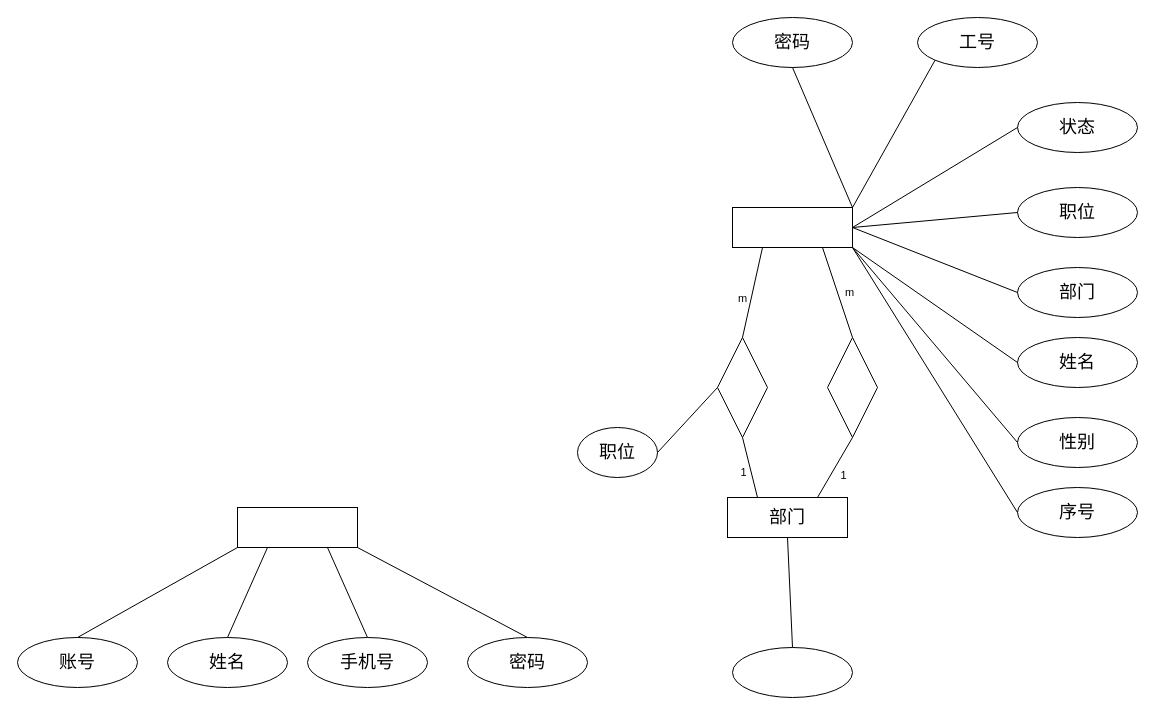
Image size: 1155x715. Some labels were removed from this diagram. The centre of each missing label's shape, as x and y in pixels:
"名称" belongs at [792,672].
"员工" belongs at [792,227].
"客户" belongs at [297,527].
"属于" belongs at [852,387].
"管理" belongs at [742,387].
